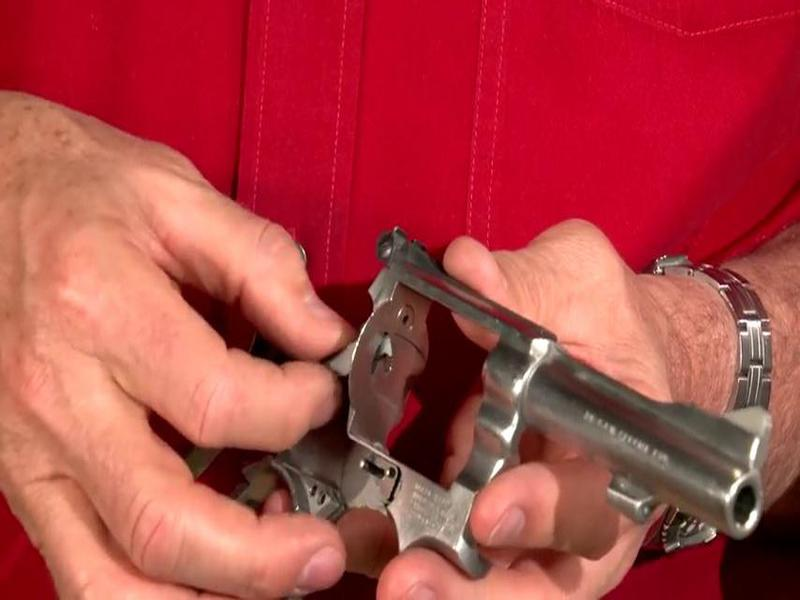Revolver: (242, 229, 794, 600)
